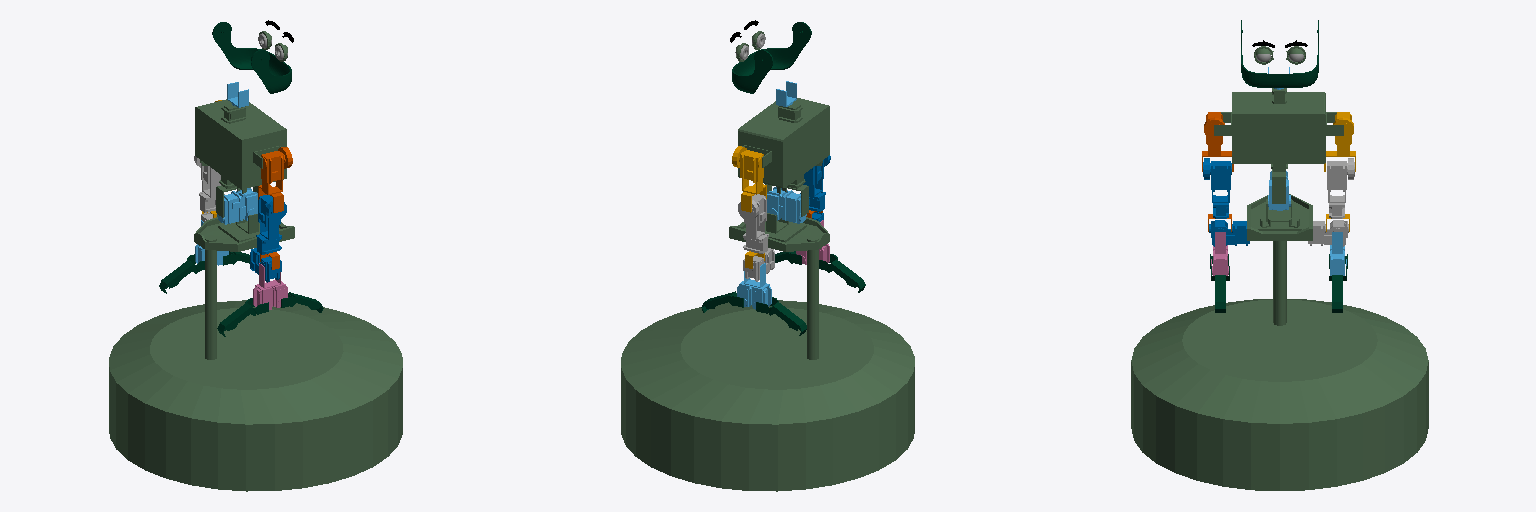
--- What the picture shows (computed from the rendered views, not written in the file) ---
The picture shows the robot from 3 angles, left to right: view 1: azimuth 30°, elevation 25°; view 2: azimuth 150°, elevation 25°; view 3: azimuth 270°, elevation 25°; orthographic projection.
Robot: jubileo — 34 links, 33 joints (30 revolute, 2 prismatic, 1 fixed); root link world; default pose: all joints at 0.
Links seen in each view (by area): view 1: root_link, torso_link, jaw_link, right_shoulder_link, right_biceps_link, waist_link, right_wrist_link, left_biceps_link, right_end2_link, left_end2_link; view 2: root_link, torso_link, jaw_link, left_shoulder_link, left_biceps_link, waist_link, left_wrist_link, right_biceps_link, left_end2_link, right_end2_link; view 3: root_link, torso_link, jaw_link, right_biceps_link, left_biceps_link, left_shoulder_link, right_shoulder_link, right_forearm_link, left_forearm_link, right_wrist_link, left_wrist_link.
Boxes of the visible links, box(x1,y1,x2,y2) form: root_link: box(109, 214, 402, 491); torso_link: box(195, 99, 286, 193); jaw_link: box(212, 22, 291, 93); right_shoulder_link: box(258, 147, 292, 212); right_biceps_link: box(256, 195, 286, 254); waist_link: box(217, 188, 257, 224); right_wrist_link: box(253, 263, 287, 309); left_biceps_link: box(194, 156, 224, 212); right_end2_link: box(217, 298, 268, 336); left_end2_link: box(159, 254, 204, 293); root_link: box(621, 213, 914, 491); torso_link: box(738, 98, 829, 193); jaw_link: box(732, 22, 811, 93); left_shoulder_link: box(732, 146, 766, 212); left_biceps_link: box(738, 194, 768, 253); waist_link: box(767, 187, 806, 223); left_wrist_link: box(737, 263, 771, 309); right_biceps_link: box(800, 155, 830, 211); left_end2_link: box(756, 297, 806, 335); right_end2_link: box(819, 254, 865, 292); root_link: box(1131, 194, 1428, 490); torso_link: box(1232, 88, 1325, 171); jaw_link: box(1241, 20, 1318, 87); right_biceps_link: box(1203, 158, 1231, 218); left_biceps_link: box(1327, 158, 1354, 218); left_shoulder_link: box(1324, 112, 1355, 171); right_shoulder_link: box(1202, 112, 1233, 171); right_forearm_link: box(1209, 220, 1249, 246); left_forearm_link: box(1308, 220, 1348, 246); right_wrist_link: box(1211, 232, 1228, 275); left_wrist_link: box(1330, 232, 1346, 275).
Bounding box of the posed robot: 0.6807 × 0.6807 × 1.01 m (x, y, z).
Meshes: 33 distinct files referenced, 32 mesh visuals loaded (32 Collada DAE); not drawn: 1 (reference not matched to a file when rendering).

robot.urdf — jubileo:
<?xml version="1.0"?>
<!-- created with Phobos 1.0.1 "Capricious Choutengan" -->
  <robot name="jubileo">
    <link name="world"/>
    <link name="down_eyelids_link">
      <inertial>
        <origin xyz="0.00329 -0.01359 -0.05522" rpy="0 0 0"/>
        <mass value="0.1"/>
        <inertia ixx="0.00121" ixy="0" ixz="0" iyy="4e-05" iyz="0" izz="0.0012"/>
      </inertial>
      <visual name="down_eyelids">
        <origin xyz="0.00329 -0.01359 -0.05522" rpy="-1.5708 0 0"/>
        <geometry>
          <mesh filename="package://meshes/dae/down_eyelids.dae" scale="1.0 1.0 1.0"/>
        </geometry>
        <material name="BLACK_006"/>
      </visual>
      <collision name="down_eyelids">
        <origin xyz="0.00648 -0.01195 -0.05522" rpy="-1.5708 0 0"/>
        <geometry>
          <box size="0.01906 0.1181 0.00445"/>
        </geometry>
      </collision>
    </link>

    <link name="waist_rot_link">
      <inertial>
        <origin xyz="-0.05 -0.000478 -0.06" rpy="0 0 0"/>
        <mass value="0.1"/>
        <inertia ixx="0.00121" ixy="0" ixz="0" iyy="4e-05" iyz="0" izz="0.0012"/>
      </inertial>
      <visual name="waist_rot">
        <origin xyz="-0.05 -0.000478 -0.06" rpy="0 -1.5708 0"/>
        <geometry>
          <mesh filename="package://meshes/dae/waist_rot.dae" scale="1.0 1.0 1.0"/>
        </geometry>
        <material name="BLACK_006"/>
      </visual>
      <collision name="waist_rot">
        <origin xyz="-0.03 -0.000403 -0.05" rpy="0 -1.5708 0"/>
        <geometry>
          <box size="0.1 0.03 0.068"/>
        </geometry>
      </collision>
    </link>

    <link name="torso_link">
      <inertial>
        <origin xyz="-0.02 -0.000304 -0.09" rpy="0 0 0"/>
        <mass value="0.3"/>
        <inertia ixx="0.00121" ixy="0" ixz="0" iyy="4e-05" iyz="0" izz="0.0012"/>
      </inertial>
      <visual name="torso">
        <origin xyz="-0.02 -0.000304 -0.09" rpy="3.14159 0 0"/>
        <geometry>
          <mesh filename="package://meshes/dae/torso.dae" scale="1.0 1.0 1.0"/>
        </geometry>
        <material name="BLACK_006"/>
      </visual>
      <collision name="torso">
        <origin xyz="0.00572 0.000306 -0.10" rpy="3.14159 0 0"/>
        <geometry>
          <box size="0.12 0.215 0.1287"/>
        </geometry>
      </collision>
    </link>

    <link name="head_link">
      <inertial>
        <origin xyz="0.04174 -0.08702 -0.02365" rpy="0 0 0"/>
        <mass value="0.1"/>
        <inertia ixx="0.0041" ixy="-0.00027" ixz="0" iyy="0.00399" iyz="-1e-05" izz="0.00286"/>
      </inertial>
      <visual name="head">
        <origin xyz="0.04174 -0.08702 -0.02365" rpy="1.5708 0 0"/>
        <geometry>
          <mesh filename="package://meshes/dae/head.dae" scale="1.0 1.0 1.0"/>
        </geometry>
        <material name="WHITE_004"/>
      </visual>
      <collision name="head.000">
        <origin xyz="0.04141 -0.08829 -0.0235" rpy="1.5708 0 0"/>
        <geometry>
          <mesh filename="package://meshes/dae/head_collision.dae" scale="1.0 1.0 1.0"/>
        </geometry>
      </collision>
    </link>

    <link name="jaw_link">
      <inertial>
        <origin xyz="0.01044 0.01344 -0.08745" rpy="0 0 0"/>
        <mass value="0.1"/>
        <inertia ixx="0.0051" ixy="-0.00201" ixz="0" iyy="0.0044" iyz="0" izz="0.00514"/>
      </inertial>
      <visual name="jaw">
        <origin xyz="0.01044 0.01344 -0.08745" rpy="1.5708 0 0"/>
        <geometry>
          <mesh filename="package://meshes/dae/jaw.dae" scale="1.0 1.0 1.0"/>
        </geometry>
        <material name="Face_000"/>
      </visual>
      <collision name="jaw.000">
        <origin xyz="0.0098 0.01331 -0.0874" rpy="1.5708 0 0"/>
        <geometry>
          <mesh filename="package://meshes/dae/jaw_collision.dae" scale="1.0 1.0 1.0"/>
        </geometry>
      </collision>
    </link>

    <link name="left_arm_link">
      <inertial>
        <origin xyz="0 0 0.02" rpy="0 0 0"/>
        <mass value="0.1"/>
        <inertia ixx="0.00017" ixy="0" ixz="0" iyy="0.00057" iyz="0" izz="0.00067"/>
      </inertial>
      <visual name="left_arm">
        <origin xyz="0 0 0.02" rpy="1.5708 0 0"/>
        <geometry>
          <mesh filename="package://meshes/dae/left_arm.dae" scale="1.0 1.0 1.0"/>
        </geometry>
        <material name="BLACK_006"/>
      </visual>
      <collision name="left_arm">
        <origin xyz="0 0 0.01925" rpy="1.5708 0 0"/>
        <geometry>
          <box size="0.07201 0.04151 0.026"/>
        </geometry>
      </collision>
    </link>

    <link name="left_biceps_link">
      <inertial>
        <origin xyz="0.00214 0.04707 -0.03151" rpy="0 0 0"/>
        <mass value="0.1"/>
        <inertia ixx="0.0016" ixy="0" ixz="0" iyy="0.00149" iyz="-0.0002" izz="0.00033"/>
      </inertial>
      <visual name="left_biceps">
        <origin xyz="0.00214 0.04707 -0.03151" rpy="1.5708 0 0"/>
        <geometry>
          <mesh filename="package://meshes/dae/left_biceps.dae" scale="1.0 1.0 1.0"/>
        </geometry>
      </visual>
      <collision name="left_biceps">
        <origin xyz="0.00026 0.04574 -0.03244" rpy="1.5708 0 0"/>
        <geometry>
          <box size="0.05175 0.06291 0.14399"/>
        </geometry>
      </collision>
    </link>

    <link name="left_elbow_rot_link">
      <inertial>
        <origin xyz="0 -0.00254 0.01187" rpy="0 0 0"/>
        <mass value="0.1"/>
        <inertia ixx="0.00041" ixy="0" ixz="0" iyy="0.0001" iyz="0" izz="0.00036"/>
      </inertial>
      <visual name="left_elbow_rot">
        <origin xyz="0 -0.00254 0.01187" rpy="-3.14159 0 0"/>
        <geometry>
          <mesh filename="package://meshes/dae/left_elbow_rot.dae" scale="1.0 1.0 1.0"/>
        </geometry>
      </visual>
      <collision name="left_elbow_rot">
        <origin xyz="0 -0.00254 0.0167" rpy="-3.14159 0 0"/>
        <geometry>
          <box size="0.022 0.055 0.03299"/>
        </geometry>
      </collision>
    </link>

    <link name="left_wrist_link">
      <inertial>
        <origin xyz="0.0931 0.00205 -0.06058" rpy="0 0 0"/>
        <mass value="1.92"/>
        <inertia ixx="0.00226" ixy="0.00019" ixz="-0.00128" iyy="0.00366" iyz="-9e-05" izz="0.00297"/>
      </inertial>
      <visual name="left_wrist">
        <origin xyz="0.07331 0.0038 -0.02179" rpy="0 -1.5708 0"/>
        <geometry>
          <mesh filename="package://meshes/dae/left_wrist.dae" scale="1.0 1.0 1.0"/>
        </geometry>
      </visual>
      <collision name="left_wrist">
        <origin xyz="0.05204 0.00164 -0.02175" rpy="0 -1.5708 0"/>
        <geometry>
          <box size="0.07339 0.0383 0.10955"/>
        </geometry>
      </collision>
    </link>

    <link name="left_end1_link">
      <inertial>
        <origin xyz="0.0585 0.01713 -0.02293" rpy="0 0 0"/>
        <mass value="0.96"/>
        <inertia ixx="0.00028" ixy="-0.00035" ixz="0" iyy="0.00102" iyz="0" izz="0.00093"/>
      </inertial>
      <visual name="left_end1">
        <origin xyz="0.0585 0.01713 -0.02293" rpy="1.5708 0 0"/>
        <geometry>
          <mesh filename="package://meshes/dae/left_end1.dae" scale="1.0 1.0 1.0"/>
        </geometry>
        <material name="Face_000"/>
      </visual>
      <collision name="left_end1.000">
        <origin xyz="0.05791 0.0173 -0.02285" rpy="1.5708 0 0"/>
        <geometry>
          <mesh filename="package://meshes/dae/left_end1_collision.dae" scale="1.0 1.0 1.0"/>
        </geometry>
      </collision>
    </link>

    <link name="left_end2_link">
      <inertial>
        <origin xyz="-0.05895 0.01713 -0.02254" rpy="0 0 0"/>
        <mass value="0.96"/>
        <inertia ixx="0.00028" ixy="0.00035" ixz="2e-05" iyy="0.00102" iyz="-1e-05" izz="0.00092"/>
      </inertial>
      <visual name="left_end2">
        <origin xyz="-0.05895 0.01713 -0.02254" rpy="1.5708 0 0"/>
        <geometry>
          <mesh filename="package://meshes/dae/left_end2.dae" scale="1.0 1.0 1.0"/>
        </geometry>
        <material name="Face_000"/>
      </visual>
      <collision name="left_end2.000">
        <origin xyz="-0.05912 0.01799 -0.02118" rpy="1.5708 0 0"/>
        <geometry>
          <mesh filename="package://meshes/dae/left_end2_collision.dae" scale="1.0 1.0 1.0"/>
        </geometry>
      </collision>
    </link>

    <link name="left_eye_hor_link">
      <inertial>
        <origin xyz="0 0 0" rpy="0 0 0"/>
        <mass value="0.1"/>
        <inertia ixx="0.00015" ixy="0" ixz="0" iyy="9e-05" iyz="0" izz="9e-05"/>
      </inertial>
      <visual name="left_eye_hor">
        <origin xyz="0 0 0" rpy="0 0 0"/>
        <geometry>
          <mesh filename="package://meshes/dae/left_eye_hor.dae" scale="1.0 1.0 1.0"/>
        </geometry>
        <material name="WHITE_004"/>
      </visual>
      <collision name="left_eye_hor">
        <origin xyz="-0.00166 0 -4e-05" rpy="0 0 0"/>
        <geometry>
          <sphere radius="0.01778"/>
        </geometry>
      </collision>
    </link>

    <link name="left_eye_link">
      <inertial>
        <origin xyz="0.0039 4e-05 0" rpy="0 0 0"/>
        <mass value="0.1"/>
        <inertia ixx="0.0001" ixy="0" ixz="0" iyy="6e-05" iyz="0" izz="6e-05"/>
      </inertial>
      <visual name="left_eye">
        <origin xyz="0.0039 4e-05 0" rpy="1.5708 0 0"/>
        <geometry>
          <mesh filename="package://meshes/dae/left_eye.dae" scale="1.0 1.0 1.0"/>
        </geometry>
        <material name="WHITE_004"/>
      </visual>
      <collision name="left_eye">
        <origin xyz="0.00024 4e-05 0" rpy="1.5708 0 0"/>
        <geometry>
          <sphere radius="0.01653"/>
        </geometry>
      </collision>
    </link>

    <link name="left_eyebrow_prism_link">
      <inertial>
        <origin xyz="0 0 0" rpy="0 0 0"/>
        <mass value="0.1"/>
        <inertia ixx="2e-05" ixy="0" ixz="0" iyy="2e-05" iyz="0" izz="2e-05"/>
      </inertial>
      <visual name="left_eyebrow_prism">
        <origin xyz="0 0 0" rpy="0 0 0"/>
        <geometry>
          <mesh filename="package://meshes/dae/left_eyebrow_prism.dae" scale="1.0 1.0 1.0"/>
        </geometry>
        <material name="BLACK_007"/>
      </visual>
      <collision name="left_eyebrow_prism">
        <origin xyz="-0.00046 0 0" rpy="0 0 0"/>
        <geometry>
          <box size="0.00276 0.00414 0.00414"/>
        </geometry>
      </collision>
    </link>

    <link name="left_forearm_link">
      <inertial>
        <origin xyz="-0.00079 0.01044 -0.03478" rpy="0 0 0"/>
        <mass value="0.1"/>
        <inertia ixx="0.00079" ixy="0" ixz="0" iyy="0.00023" iyz="-6e-05" izz="0.00074"/>
      </inertial>
      <visual name="left_forearm">
        <origin xyz="-0.00079 0.01044 -0.03478" rpy="1.5708 0 0"/>
        <geometry>
          <mesh filename="package://meshes/dae/left_forearm.dae" scale="1.0 1.0 1.0"/>
        </geometry>
      </visual>
      <collision name="left_forearm">
        <origin xyz="3e-05 0.0125 -0.04468" rpy="1.5708 0 0"/>
        <geometry>
          <box size="0.041 0.09263 0.05175"/>
        </geometry>
      </collision>
    </link>

    <link name="left_shoulder_link">
      <inertial>
        <origin xyz="0.01569 -0.00099 -0.02718" rpy="0 0 0"/>
        <mass value="0.1"/>
        <inertia ixx="0.0018" ixy="0.00024" ixz="-2e-05" iyy="0.0018" iyz="0.00016" izz="0.00044"/>
      </inertial>
      <visual name="left_shoulder">
        <origin xyz="0.01569 -0.00099 -0.02718" rpy="0 -1.5708 0"/>
        <geometry>
          <mesh filename="package://meshes/dae/left_shoulder.dae" scale="1.0 1.0 1.0"/>
        </geometry>
      </visual>
      <collision name="left_shoulder">
        <origin xyz="0.04702 -0.0083 -0.02977" rpy="0 -1.5708 0"/>
        <geometry>
          <box size="0.06634 0.072 0.14466"/>
        </geometry>
      </collision>
    </link>


    <link name="neck_link">
      <inertial>
        <origin xyz="0 0 0" rpy="0 0 0"/>
        <mass value="0.1"/>
        <inertia ixx="0.00054" ixy="0" ixz="0" iyy="0.00028" iyz="0" izz="0.00035"/>
      </inertial>
      <visual name="neck">
        <origin xyz="0 0 0" rpy="0 0 0"/>
        <geometry>
          <mesh filename="package://meshes/dae/neck.dae" scale="1.0 1.0 1.0"/>
        </geometry>
      </visual>
      <collision name="neck">
        <origin xyz="-2e-05 -4e-05 0.0152" rpy="0 0 0"/>
        <geometry>
          <box size="0.029 0.05135 0.04307"/>
        </geometry>
      </collision>
    </link>

    <link name="left_eyebrow_link">
      <inertial>
        <origin xyz="0.00223 -3e-05 0.00591" rpy="0 0 0"/>
        <mass value="0.1"/>
        <inertia ixx="0.00018" ixy="0" ixz="2e-05" iyy="2e-05" iyz="0" izz="0.00019"/>
      </inertial>
      <visual name="left_eyebrow">
        <origin xyz="0.00223 -3e-05 0.00591" rpy="0 -1.5708 0"/>
        <geometry>
          <mesh filename="package://meshes/dae/left_eyebrow.dae" scale="1.0 1.0 1.0"/>
        </geometry>
        <material name="BLACK_007"/>
      </visual>
      <collision name="left_eyebrow">
        <origin xyz="0.002 -3e-05 0.00231" rpy="0 -1.5708 0"/>
        <geometry>
          <box size="0.02278 0.05217 0.01179"/>
        </geometry>
      </collision>
    </link>

    <link name="right_arm_link">
      <inertial>
        <origin xyz="0 0 0.02" rpy="0 0 0"/>
        <mass value="0.1"/>
        <inertia ixx="0.00017" ixy="0" ixz="0" iyy="0.00057" iyz="0" izz="0.00067"/>
      </inertial>
      <visual name="right_arm">
        <origin xyz="0 0 0.02" rpy="-1.5708 0 0"/>
        <geometry>
          <mesh filename="package://meshes/dae/right_arm.dae" scale="1.0 1.0 1.0"/>
        </geometry>
        <material name="BLACK_006"/>
      </visual>
      <collision name="right_arm">
        <origin xyz="0 0 0.01925" rpy="-1.5708 0 0"/>
        <geometry>
          <box size="0.07201 0.04151 0.026"/>
        </geometry>
      </collision>
    </link>

    <link name="right_biceps_link">
      <inertial>
        <origin xyz="0.00195 -0.04137 -0.03755" rpy="0 0 0"/>
        <mass value="0.1"/>
        <inertia ixx="0.00162" ixy="0" ixz="0" iyy="0.00152" iyz="0.00016" izz="0.00031"/>
      </inertial>
      <visual name="right_biceps">
        <origin xyz="0.00195 -0.04137 -0.03755" rpy="-1.5708 0 0"/>
        <geometry>
          <mesh filename="package://meshes/dae/right_biceps.dae" scale="1.0 1.0 1.0"/>
        </geometry>
      </visual>
      <collision name="right_biceps">
        <origin xyz="0.00026 -0.04574 -0.03601" rpy="-1.5708 0 0"/>
        <geometry>
          <box size="0.05175 0.06583 0.14399"/>
        </geometry>
      </collision>
    </link>

    <link name="right_elbow_rot_link">
      <inertial>
        <origin xyz="0 0.00202 0.01187" rpy="0 0 0"/>
        <mass value="0.1"/>
        <inertia ixx="0.00041" ixy="0" ixz="0" iyy="0.0001" iyz="0" izz="0.00036"/>
      </inertial>
      <visual name="right_elbow_rot">
        <origin xyz="0 0.00202 0.01187" rpy="-3.14159 0 0"/>
        <geometry>
          <mesh filename="package://meshes/dae/right_elbow_rot.dae" scale="1.0 1.0 1.0"/>
        </geometry>
      </visual>
      <collision name="right_elbow_rot">
        <origin xyz="0 0.00202 0.0167" rpy="-3.14159 0 0"/>
        <geometry>
          <box size="0.022 0.055 0.03299"/>
        </geometry>
      </collision>
    </link>

    <link name="right_end1_link">
      <inertial>
        <origin xyz="0.0585 -0.01713 -0.02301" rpy="0 0 0"/>
        <mass value="0.96"/>
        <inertia ixx="0.00028" ixy="-0.00035" ixz="0" iyy="0.00102" iyz="0" izz="0.00093"/>
      </inertial>
      <visual name="right_end1">
        <origin xyz="0.0585 -0.01713 -0.02301" rpy="-1.5708 0 0"/>
        <geometry>
          <mesh filename="package://meshes/dae/right_end1.dae" scale="1.0 1.0 1.0"/>
        </geometry>
        <material name="Face_000"/>
      </visual>
      <collision name="right_end1.000">
        <origin xyz="0.05826 -0.0173 -0.02294" rpy="-1.5708 0 0"/>
        <geometry>
          <mesh filename="package://meshes/dae/right_end1_collision.dae" scale="1.0 1.0 1.0"/>
        </geometry>
      </collision>
    </link>

    <link name="right_end2_link">
      <inertial>
        <origin xyz="-0.05895 -0.01713 -0.02263" rpy="0 0 0"/>
        <mass value="0.96"/>
        <inertia ixx="0.00028" ixy="0.00035" ixz="-2e-05" iyy="0.00102" iyz="1e-05" izz="0.00092"/>
      </inertial>
      <visual name="right_end2">
        <origin xyz="-0.05895 -0.01713 -0.02263" rpy="-1.5708 0 0"/>
        <geometry>
          <mesh filename="package://meshes/dae/right_end2.dae" scale="1.0 1.0 1.0"/>
        </geometry>
        <material name="Face_000"/>
      </visual>
      <collision name="right_end2.000">
        <origin xyz="-0.05936 -0.01782 -0.02126" rpy="-1.5708 0 0"/>
        <geometry>
          <mesh filename="package://meshes/dae/right_end2_collision.dae" scale="1.0 1.0 1.0"/>
        </geometry>
      </collision>
    </link>

    <link name="right_eye_hor_link">
      <inertial>
        <origin xyz="0 0 0" rpy="0 0 0"/>
        <mass value="0.1"/>
        <inertia ixx="0.00015" ixy="0" ixz="0" iyy="9e-05" iyz="0" izz="9e-05"/>
      </inertial>
      <visual name="right_eye_hor">
        <origin xyz="0 0 0" rpy="0 0 0"/>
        <geometry>
          <mesh filename="package://meshes/dae/right_eye_hor.dae" scale="1.0 1.0 1.0"/>
        </geometry>
        <material name="WHITE_004"/>
      </visual>
      <collision name="right_eye_hor">
        <origin xyz="-0.00166 0 -4e-05" rpy="0 0 0"/>
        <geometry>
          <sphere radius="0.01778"/>
        </geometry>
      </collision>
    </link>

    <link name="right_eye_link">
      <inertial>
        <origin xyz="0.0039 -4e-05 0" rpy="0 0 0"/>
        <mass value="0.1"/>
        <inertia ixx="0.0001" ixy="0" ixz="0" iyy="6e-05" iyz="0" izz="6e-05"/>
      </inertial>
      <visual name="right_eye">
        <origin xyz="0.0039 -4e-05 0" rpy="-1.5708 0 0"/>
        <geometry>
          <mesh filename="package://meshes/dae/right_eye.dae" scale="1.0 1.0 1.0"/>
        </geometry>
        <material name="WHITE_004"/>
      </visual>
      <collision name="right_eye">
        <origin xyz="0.00017 -4e-05 0" rpy="-1.5708 0 0"/>
        <geometry>
          <sphere radius="0.01653"/>
        </geometry>
      </collision>
    </link>

    <link name="right_eyebrow_link">
      <inertial>
        <origin xyz="0.00223 3e-05 0.00591" rpy="0 0 0"/>
        <mass value="0.1"/>
        <inertia ixx="0.00018" ixy="0" ixz="-2e-05" iyy="2e-05" iyz="0" izz="0.00019"/>
      </inertial>
      <visual name="right_eyebrow">
        <origin xyz="0.00223 3e-05 0.00591" rpy="0 -1.5708 0"/>
        <geometry>
          <mesh filename="package://meshes/dae/right_eyebrow.dae" scale="1.0 1.0 1.0"/>
        </geometry>
        <material name="BLACK_007"/>
      </visual>
      <collision name="right_eyebrow">
        <origin xyz="0.002 3e-05 0.00231" rpy="0 -1.5708 0"/>
        <geometry>
          <box size="0.02278 0.05217 0.01179"/>
        </geometry>
      </collision>
    </link>

    <link name="right_eyebrow_prism_link">
      <inertial>
        <origin xyz="0 0 0" rpy="0 0 0"/>
        <mass value="0.1"/>
        <inertia ixx="2e-05" ixy="0" ixz="0" iyy="2e-05" iyz="0" izz="2e-05"/>
      </inertial>
      <visual name="right_eyebrow_prism">
        <origin xyz="0 0 0" rpy="0 0 0"/>
        <geometry>
          <mesh filename="package://meshes/dae/right_eyebrow_prism.dae" scale="1.0 1.0 1.0"/>
        </geometry>
        <material name="BLACK_007"/>
      </visual>
      <collision name="right_eyebrow_prism">
        <origin xyz="-0.00046 0 0" rpy="0 0 0"/>
        <geometry>
          <box size="0.00276 0.00414 0.00414"/>
        </geometry>
      </collision>
    </link>

    <link name="right_forearm_link">
      <inertial>
        <origin xyz="-0.00079 -0.01044 -0.03864" rpy="0 0 0"/>
        <mass value="0.1"/>
        <inertia ixx="0.00079" ixy="0" ixz="0" iyy="0.00023" iyz="6e-05" izz="0.00074"/>
      </inertial>
      <visual name="right_forearm">
        <origin xyz="-0.00079 -0.01044 -0.03864" rpy="-1.5708 0 0"/>
        <geometry>
          <mesh filename="package://meshes/dae/right_forearm.dae" scale="1.0 1.0 1.0"/>
        </geometry>
      </visual>
      <collision name="right_forearm">
        <origin xyz="3e-05 -0.0125 -0.04854" rpy="-1.5708 0 0"/>
        <geometry>
          <box size="0.041 0.09263 0.05175"/>
        </geometry>
      </collision>
    </link>

    <link name="right_shoulder_link">
      <inertial>
        <origin xyz="0.01569 0.00031 -0.02718" rpy="0 0 0"/>
        <mass value="0.1"/>
        <inertia ixx="0.0018" ixy="0.00024" ixz="2e-05" iyy="0.0018" iyz="-0.00016" izz="0.00044"/>
      </inertial>
      <visual name="right_shoulder">
        <origin xyz="0.01569 0.00031 -0.02718" rpy="0 -1.5708 0"/>
        <geometry>
          <mesh filename="package://meshes/dae/right_shoulder.dae" scale="1.0 1.0 1.0"/>
        </geometry>
      </visual>
      <collision name="right_shoulder">
        <origin xyz="0.04702 0.00762 -0.02977" rpy="0 -1.5708 0"/>
        <geometry>
          <box size="0.06634 0.072 0.14466"/>
        </geometry>
      </collision>
    </link>

    <link name="right_wrist_link">
      <inertial>
        <origin xyz="0.0771 -6e-05 -0.02177" rpy="0 0 0"/>
        <mass value="0.1"/>
        <inertia ixx="0.00061" ixy="0" ixz="0" iyy="0.00082" iyz="0" izz="0.00037"/>
      </inertial>
      <visual name="right_wrist">
        <origin xyz="0.0771 -6e-05 -0.02177" rpy="0 -1.5708 0"/>
        <geometry>
          <mesh filename="package://meshes/dae/right_wrist.dae" scale="1.0 1.0 1.0"/>
        </geometry>
      </visual>
      <collision name="right_wrist">
        <origin xyz="0.05204 -0.00066 -0.02175" rpy="0 -1.5708 0"/>
        <geometry>
          <box size="0.07339 0.03991 0.10955"/>
        </geometry>
      </collision>
    </link>

    <link name="root_link">
      <inertial>
        <origin xyz="-0.04631 -0.00117 0.36756" rpy="0 0 0"/>
        <mass value="0.96"/>
        <inertia ixx="0.07638" ixy="0.01196" ixz="0" iyy="0.07928" iyz="2e-05" izz="0.04695"/>
      </inertial>
      <visual name="root">
        <origin xyz="-0.04631 -0.00117 0.36756" rpy="0 0 0"/>
        <geometry>
          <mesh filename="package://meshes/dae/root.dae" scale="1.0 1.0 1.0"/>
        </geometry>
        <material name="BLACK_006"/>
      </visual>
      <collision name="root.000">
        <origin xyz="-0.04646 -0.00107 0.36849" rpy="0 0 0"/>
        <geometry>
          <mesh filename="package://meshes/dae/root_collision.dae" scale="1.0 1.0 1.0"/>
        </geometry>
      </collision>
    </link>

    <link name="up_eyelids_link">
      <inertial>
        <origin xyz="0.0034 -0.01396 -0.05525" rpy="0 0 0"/>
        <mass value="0.1"/>
        <inertia ixx="0.00123" ixy="0" ixz="0" iyy="4e-05" iyz="0" izz="0.00121"/>
      </inertial>
      <visual name="up_eyelids">
        <origin xyz="0.0034 -0.01396 -0.05525" rpy="1.5708 0 0"/>
        <geometry>
          <mesh filename="package://meshes/dae/up_eyelids.dae" scale="1.0 1.0 1.0"/>
        </geometry>
        <material name="BLACK_006"/>
      </visual>
      <collision name="up_eyelids">
        <origin xyz="0.00608 -0.01282 -0.05553" rpy="1.5708 0 0"/>
        <geometry>
          <box size="0.01899 0.1181 0.00571"/>
        </geometry>
      </collision>
    </link>

    <link name="waist_link">
      <inertial>
        <origin xyz="-0.01826 -0.01298 -0.02894" rpy="0 0 0"/>
        <mass value="0.1"/>
        <inertia ixx="0.00039" ixy="-2e-05" ixz="0" iyy="0.00088" iyz="0" izz="0.00076"/>
      </inertial>
      <visual name="waist">
        <origin xyz="-0.01826 -0.01298 -0.02894" rpy="1.5708 0 0"/>
        <geometry>
          <mesh filename="package://meshes/dae/waist.dae" scale="1.0 1.0 1.0"/>
        </geometry>
      </visual>
      <collision name="waist">
        <origin xyz="-0.02413 -0.01783 -0.02923" rpy="1.5708 0 0"/>
        <geometry>
          <box size="0.09344 0.05243 0.065"/>
        </geometry>
      </collision>
    </link>




  <!--Disable_Collisions -->
  <disable_collision link1="root_link" link2="right_forearm_link">
  </disable_collision>
  <disable_collision link1="root_link" link2="left_forearm_link">
  </disable_collision>
  <disable_collision link1="waist_link" link2="waist_rot_link">
  </disable_collision>
  <disable_collision link1="root_link" link2="waist_rot_link">
  </disable_collision>
  <disable_collision link1="root_link" link2="waist_link">
  </disable_collision>
  <disable_collision link1="torso_link" link2="right_shoulder_link">
  </disable_collision>
  <disable_collision link1="torso_link" link2="left_shoulder_link">
  </disable_collision>






    <joint name="joint_world" type="fixed">
      <parent link="world"/>
      <child link="root_link"/>
      <origin rpy="0 0 0" xyz="0 0 0"/>
    </joint>

    <joint name="down_eyelids_link" type="revolute">
      <origin xyz="0.09305 -0.09166 -0.07868" rpy="-3.14159 0 0"/>
      <parent link="head_link"/>
      <child link="down_eyelids_link"/>
      <axis xyz="0 0 1.0"/>
      <limit lower="-0.6" upper="0.6" effort="2.0" velocity="1.0"/>
    </joint>

    <joint name="head_link" type="revolute">
      <origin xyz="7e-05 0.02563 0.02528" rpy="-1.5708 0 0"/>
      <parent link="neck_link"/>
      <child link="head_link"/>
      <axis xyz="0 0 1.0"/>
      <limit lower="-0.6" upper="0.6" effort="2.0" velocity="1.0"/>
    </joint>

    <joint name="jaw_link" type="revolute">
      <origin xyz="0.00838 -0.11349 0.06376" rpy="0 0 0"/>
      <parent link="head_link"/>
      <child link="jaw_link"/>
      <axis xyz="0 0 1.0"/>
      <limit lower="0" upper="0.3" effort="2.0" velocity="1.0"/>
    </joint>

    <joint name="left_shoulder_link" type="revolute">
      <origin xyz="0.03 0 0.03932" rpy="1.5708 0 1.5708"/>
      <parent link="left_arm_link"/>
      <child link="left_shoulder_link"/>
      <axis xyz="0 0 1.0"/>
      <limit lower="0" upper="1.6" effort="2.0" velocity="1.0"/>
    </joint>

    <joint name="left_arm_link" type="revolute">
      <origin xyz="0.00953 -0.10874 -0.11788" rpy="1.5708 0 0"/>
      <parent link="torso_link"/>
      <child link="left_arm_link"/>
      <axis xyz="0 0 1.0"/>
      <limit lower="-1.6" upper="1.0" effort="2.0" velocity="1.0"/>
    </joint>

    <joint name="left_biceps_link" type="revolute">
      <origin xyz="0.11909 0.02561 -0.03739" rpy="-1.5708 -1.5708 0"/>
      <parent link="left_shoulder_link"/>
      <child link="left_biceps_link"/>
      <axis xyz="0 0 1.0"/>
      <limit lower="-1.6" upper="0" effort="2.0" velocity="1.0"/>
    </joint>

    <joint name="left_elbow_rot_link" type="revolute">
      <origin xyz="0.00129 0.1177 -0.04181" rpy="-1.5708 0 0"/>
      <parent link="left_biceps_link"/>
      <child link="left_elbow_rot_link"/>
      <axis xyz="0 0 1.0"/>
      <limit lower="-1.6" upper="1.6" effort="2.0" velocity="1.0"/>
    </joint>

    <joint name="left_forearm_link" type="revolute">
      <origin xyz="8e-05 -0.0262 0.03134" rpy="1.5708 0 0"/>
      <parent link="left_elbow_rot_link"/>
      <child link="left_forearm_link"/>
      <axis xyz="0 0 1.0"/>
      <limit lower="-1.0" upper="1.0" effort="2.0" velocity="1.0"/>
    </joint>

    <joint name="left_wrist_link" type="revolute">
      <origin xyz="0.02254 0.00058 -0.02385" rpy="1.5708 0 1.5708"/>
      <parent link="left_forearm_link"/>
      <child link="left_wrist_link"/>
      <axis xyz="0 0 1.0"/>
      <limit lower="-1.0" upper="1.0" effort="2.0" velocity="1.0"/>
    </joint>

    <joint name="left_end1_link" type="revolute">
      <origin xyz="0.09576 0.02285 -0.00226" rpy="-1.5708 -1.5708 0"/>
      <parent link="left_wrist_link"/>
      <child link="left_end1_link"/>
      <axis xyz="0 0 1.0"/>
      <limit lower="0" upper="1.25" effort="2.0" velocity="1.0"/>
    </joint>

    <joint name="left_end2_link" type="revolute">
      <origin xyz="0.09576 0.02285 -0.04042" rpy="-1.5708 -1.5708 0"/>
      <parent link="left_wrist_link"/>
      <child link="left_end2_link"/>
      <axis xyz="0 0 1.0"/>
      <limit lower="-1.25" upper="0" effort="2.0" velocity="1.0"/>
    </joint>

    <joint name="left_eye_hor_link" type="revolute">
      <origin xyz="0.09366 -0.09189 0.01404" rpy="1.5708 0 0"/>
      <parent link="head_link"/>
      <child link="left_eye_hor_link"/>
      <axis xyz="0 0 1.0"/>
      <limit lower="-0.6" upper="0.6" effort="2.0" velocity="1.0"/>
    </joint>

    <joint name="left_eye_link" type="revolute">
      <origin xyz="0 0 0" rpy="-1.5708 0 0"/>
      <parent link="left_eye_hor_link"/>
      <child link="left_eye_link"/>
      <axis xyz="0 0 1.0"/>
      <limit lower="-0.6" upper="0.6" effort="2.0" velocity="1.0"/>
    </joint>

    <joint name="left_eyebrow_link" type="revolute">
      <origin xyz="0.01 0 0" rpy="0 1.5708 0"/>
      <parent link="left_eyebrow_prism_link"/>
      <child link="left_eyebrow_link"/>
      <axis xyz="0 0 1.0"/>
      <limit lower="-0.6" upper="0.6" effort="2.0" velocity="1.0"/>
    </joint>

    <joint name="left_eyebrow_prism_link" type="prismatic">
      <origin xyz="0.09768 -0.13049 0.01366" rpy="1.5708 0 0"/>
      <parent link="head_link"/>
      <child link="left_eyebrow_prism_link"/>
      <axis xyz="0 0 1.0"/>
      <limit lower="0" upper="0.026" effort="2.0" velocity="1.0"/>
    </joint>

    <joint name="neck_link" type="revolute">
      <origin xyz="-0.00366 0.0001 -0.21099" rpy="3.14159 0 0"/>
      <parent link="torso_link"/>
      <child link="neck_link"/>
      <axis xyz="0 0 1.0"/>
      <limit lower="-1.4" upper="1.4" effort="2.0" velocity="1.0"/>
    </joint>

    <joint name="right_arm_link" type="revolute">
      <origin xyz="0.00953 0.10929 -0.11788" rpy="-1.5708 0 0"/>
      <parent link="torso_link"/>
      <child link="right_arm_link"/>
      <axis xyz="0 0 1.0"/>
      <limit lower="-1.0" upper="1.6" effort="2.0" velocity="1.0"/>
    </joint>

    <joint name="right_shoulder_link" type="revolute">
      <origin xyz="0.03 0 0.03864" rpy="-1.5708 0 -1.5708"/>
      <parent link="right_arm_link"/>
      <child link="right_shoulder_link"/>
      <axis xyz="0 0 1.0"/>
      <limit lower="-1.6" upper="0" effort="2.0" velocity="1.0"/>
    </joint>

    <joint name="right_biceps_link" type="revolute">
      <origin xyz="0.11909 -0.02839 -0.03739" rpy="1.5708 -1.5708 0"/>
      <parent link="right_shoulder_link"/>
      <child link="right_biceps_link"/>
      <axis xyz="0 0 1.0"/>
      <limit lower="0" upper="1.6" effort="2.0" velocity="1.0"/>
    </joint>

    <joint name="right_elbow_rot_link" type="revolute">
      <origin xyz="0.00129 -0.1177 -0.04339" rpy="1.5708 0 0"/>
      <parent link="right_biceps_link"/>
      <child link="right_elbow_rot_link"/>
      <axis xyz="0 0 1.0"/>
      <limit lower="-1.6" upper="1.6" effort="2.0" velocity="1.0"/>
    </joint>

    <joint name="right_forearm_link" type="revolute">
      <origin xyz="8e-05 0.02954 0.03134" rpy="-1.5708 0 0"/>
      <parent link="right_elbow_rot_link"/>
      <child link="right_forearm_link"/>
      <axis xyz="0 0 1.0"/>
      <limit lower="-1.0" upper="1.0" effort="2.0" velocity="1.0"/>
    </joint>

    <joint name="right_wrist_link" type="revolute">
      <origin xyz="0.02254 -0.00058 -0.02754" rpy="-1.5708 0 -1.5708"/>
      <parent link="right_forearm_link"/>
      <child link="right_wrist_link"/>
      <axis xyz="0 0 1.0"/>
      <limit lower="-1.0" upper="1.0" effort="2.0" velocity="1.0"/>
    </joint>

    <joint name="right_end1_link" type="revolute">
      <origin xyz="0.09576 -0.02276 -0.00226" rpy="1.5708 -1.5708 0"/>
      <parent link="right_wrist_link"/>
      <child link="right_end1_link"/>
      <axis xyz="0 0 1.0"/>
      <limit lower="-1.25" upper="0" effort="2.0" velocity="1.0"/>
    </joint>

    <joint name="right_end2_link" type="revolute">
      <origin xyz="0.09576 -0.02276 -0.04042" rpy="1.5708 -1.5708 0"/>
      <parent link="right_wrist_link"/>
      <child link="right_end2_link"/>
      <axis xyz="0 0 1.0"/>
      <limit lower="0" upper="1.25" effort="2.0" velocity="1.0"/>
    </joint>

    <joint name="right_eye_hor_link" type="revolute">
      <origin xyz="0.09366 -0.09189 -0.06093" rpy="1.5708 0 0"/>
      <parent link="head_link"/>
      <child link="right_eye_hor_link"/>
      <axis xyz="0 0 1.0"/>
      <limit lower="-0.6" upper="0.6" effort="2.0" velocity="1.0"/>
    </joint>

    <joint name="right_eye_link" type="revolute">
      <origin xyz="0 0 0" rpy="1.5708 0 0"/>
      <parent link="right_eye_hor_link"/>
      <child link="right_eye_link"/>
      <axis xyz="0 0 1.0"/>
      <limit lower="-0.6" upper="0.6" effort="2.0" velocity="1.0"/>
    </joint>

    <joint name="right_eyebrow_link" type="revolute">
      <origin xyz="0.01 0 0" rpy="0 1.5708 0"/>
      <parent link="right_eyebrow_prism_link"/>
      <child link="right_eyebrow_link"/>
      <axis xyz="0 0 1.0"/>
      <limit lower="-0.6" upper="0.6" effort="2.0" velocity="1.0"/>
    </joint>

    <joint name="right_eyebrow_prism_link" type="prismatic">
      <origin xyz="0.09768 -0.13049 -0.06074" rpy="1.5708 0 0"/>
      <parent link="head_link"/>
      <child link="right_eyebrow_prism_link"/>
      <axis xyz="0 0 1.0"/>
      <limit lower="0" upper="0.026" effort="2.0" velocity="1.0"/>
    </joint>

    <joint name="torso_link" type="revolute">
      <origin xyz="-0.07 0 -0.05036449" rpy="0 -1.5708 3.14159"/>
      <parent link="waist_rot_link"/>
      <child link="torso_link"/>
      <axis xyz="0 0 1.0"/>
      <limit lower="-1.0" upper="1.0" effort="2.0" velocity="1.0"/>
    </joint>

    <joint name="up_eyelids_link" type="revolute">
      <origin xyz="0.09306 -0.09174 0.03179" rpy="0 0 0"/>
      <parent link="head_link"/>
      <child link="up_eyelids_link"/>
      <axis xyz="0 0 1.0"/>
      <limit lower="-0.6" upper="0.6" effort="2.0" velocity="1.0"/>
    </joint>

    <joint name="waist_link" type="revolute">
      <origin xyz="-0.00941 0.02623 0.56369" rpy="-1.5708 0 0"/>
      <parent link="root_link"/>
      <child link="waist_link"/>
      <axis xyz="0 0 1.0"/>
      <limit lower="-0.5" upper="0.5" effort="2.0" velocity="1.0"/>
    </joint>

    <joint name="waist_rot_link" type="revolute">
      <origin xyz="0.0297 -0.0025 -0.0292" rpy="1.5708 0 1.5708"/>
      <parent link="waist_link"/>
      <child link="waist_rot_link"/>
      <axis xyz="0 0 1.0"/>
      <limit lower="-0.5" upper="0.5" effort="2.0" velocity="1.0"/>
    </joint>

    <material name="BLACK_006">
      <color rgba="0.33976 0.45369 0.34471 1.0"/>
    </material>

    <material name="BLACK_007">
      <color rgba="0.00291 0.00291 0.00291 1.0"/>
    </material>

    <material name="Face_000">
      <color rgba="0.01746 0.2639 0.18537 1.0"/>
    </material>

    <material name="WHITE_004">
      <color rgba="0.64 0.64 0.64 1.0"/>
    </material>

  </robot>
